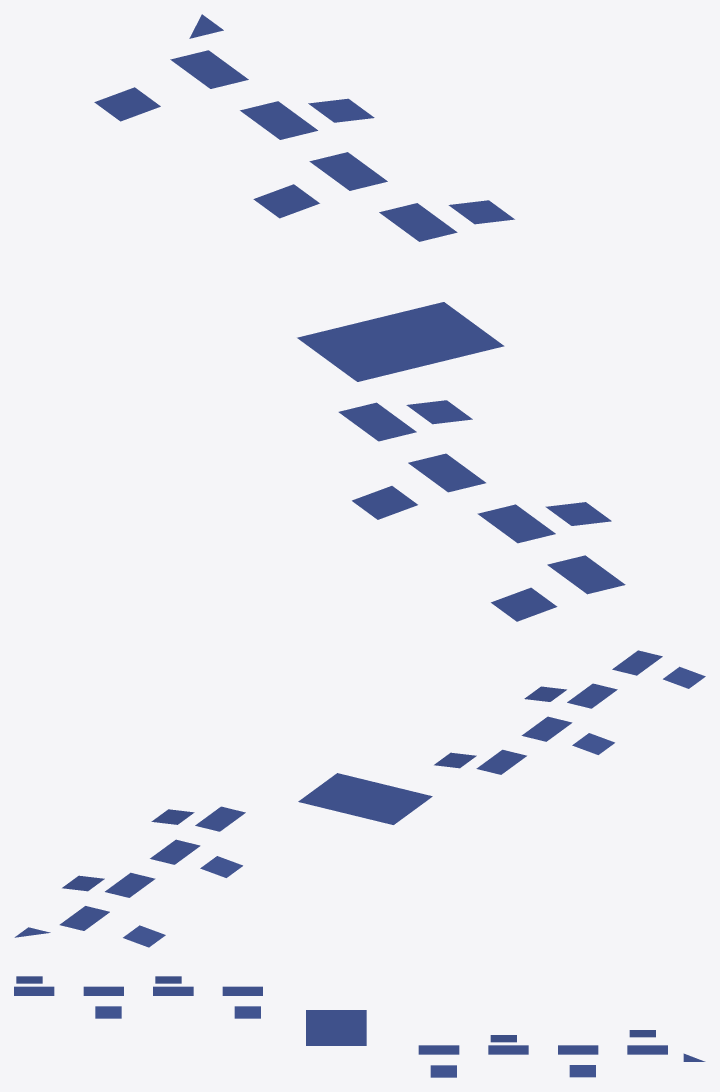
Rendered from rejilaparedes.fbx.
The picture shows the model from 3 angles, top to bottom: view 1: azimuth 30°, elevation 25°; view 2: azimuth 150°, elevation 25°; view 3: azimuth 270°, elevation 25°; orthographic projection. The views are drawn at different scales.
Visible parts, largest first — view 1: paredes rejilla; view 2: paredes rejilla; view 3: paredes rejilla.
Part boxes in pixels (x1,y1,x2,y2): paredes rejilla: (94,14,625,621); paredes rejilla: (14,650,705,947); paredes rejilla: (14,976,705,1077).
Bounding box in the file's own units: 1370 × 52.93 × 3979.
